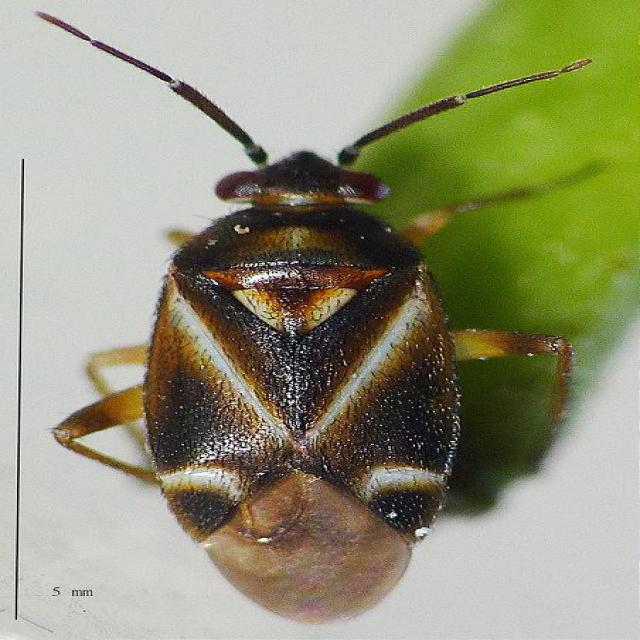Miridae-Adult-: (10, 3, 613, 626)
